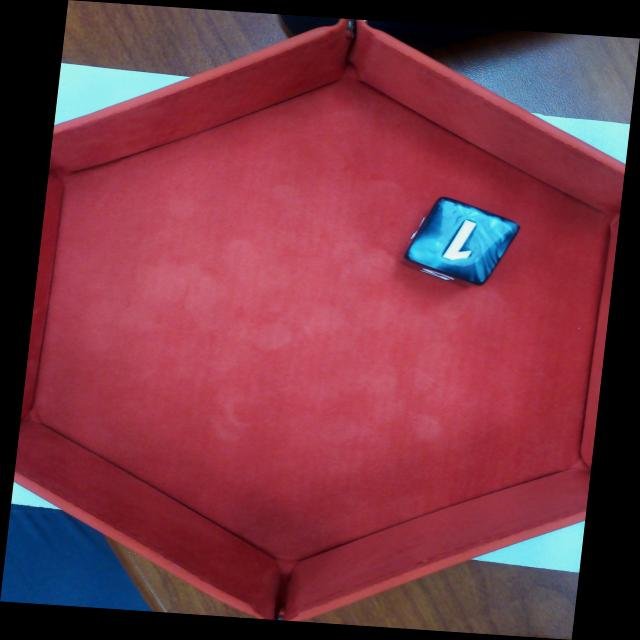dice: (402, 194, 523, 289)
